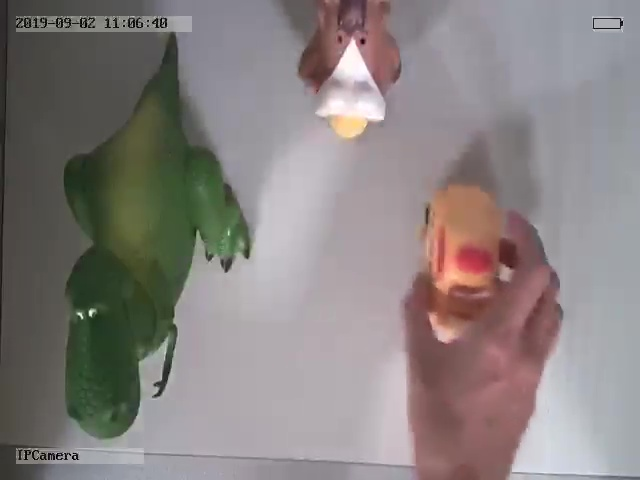horse: (296, 1, 403, 140)
rex: (58, 55, 251, 441)
